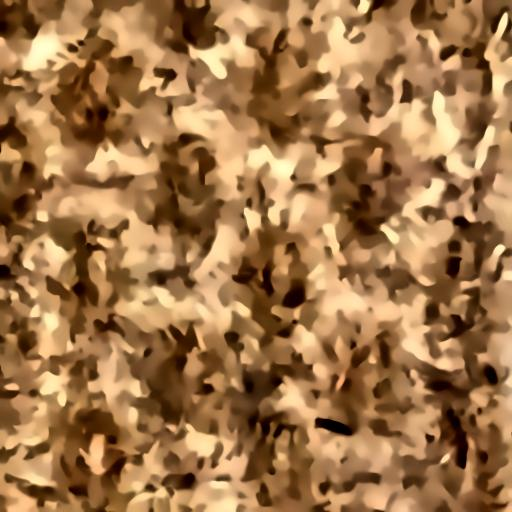egg: (305, 412, 356, 443)
